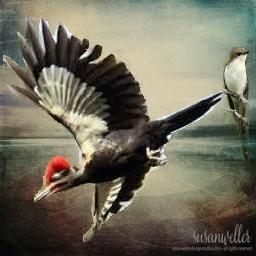Cuckoo: (223, 47, 249, 163)
Woodpecker: (4, 18, 225, 243)
